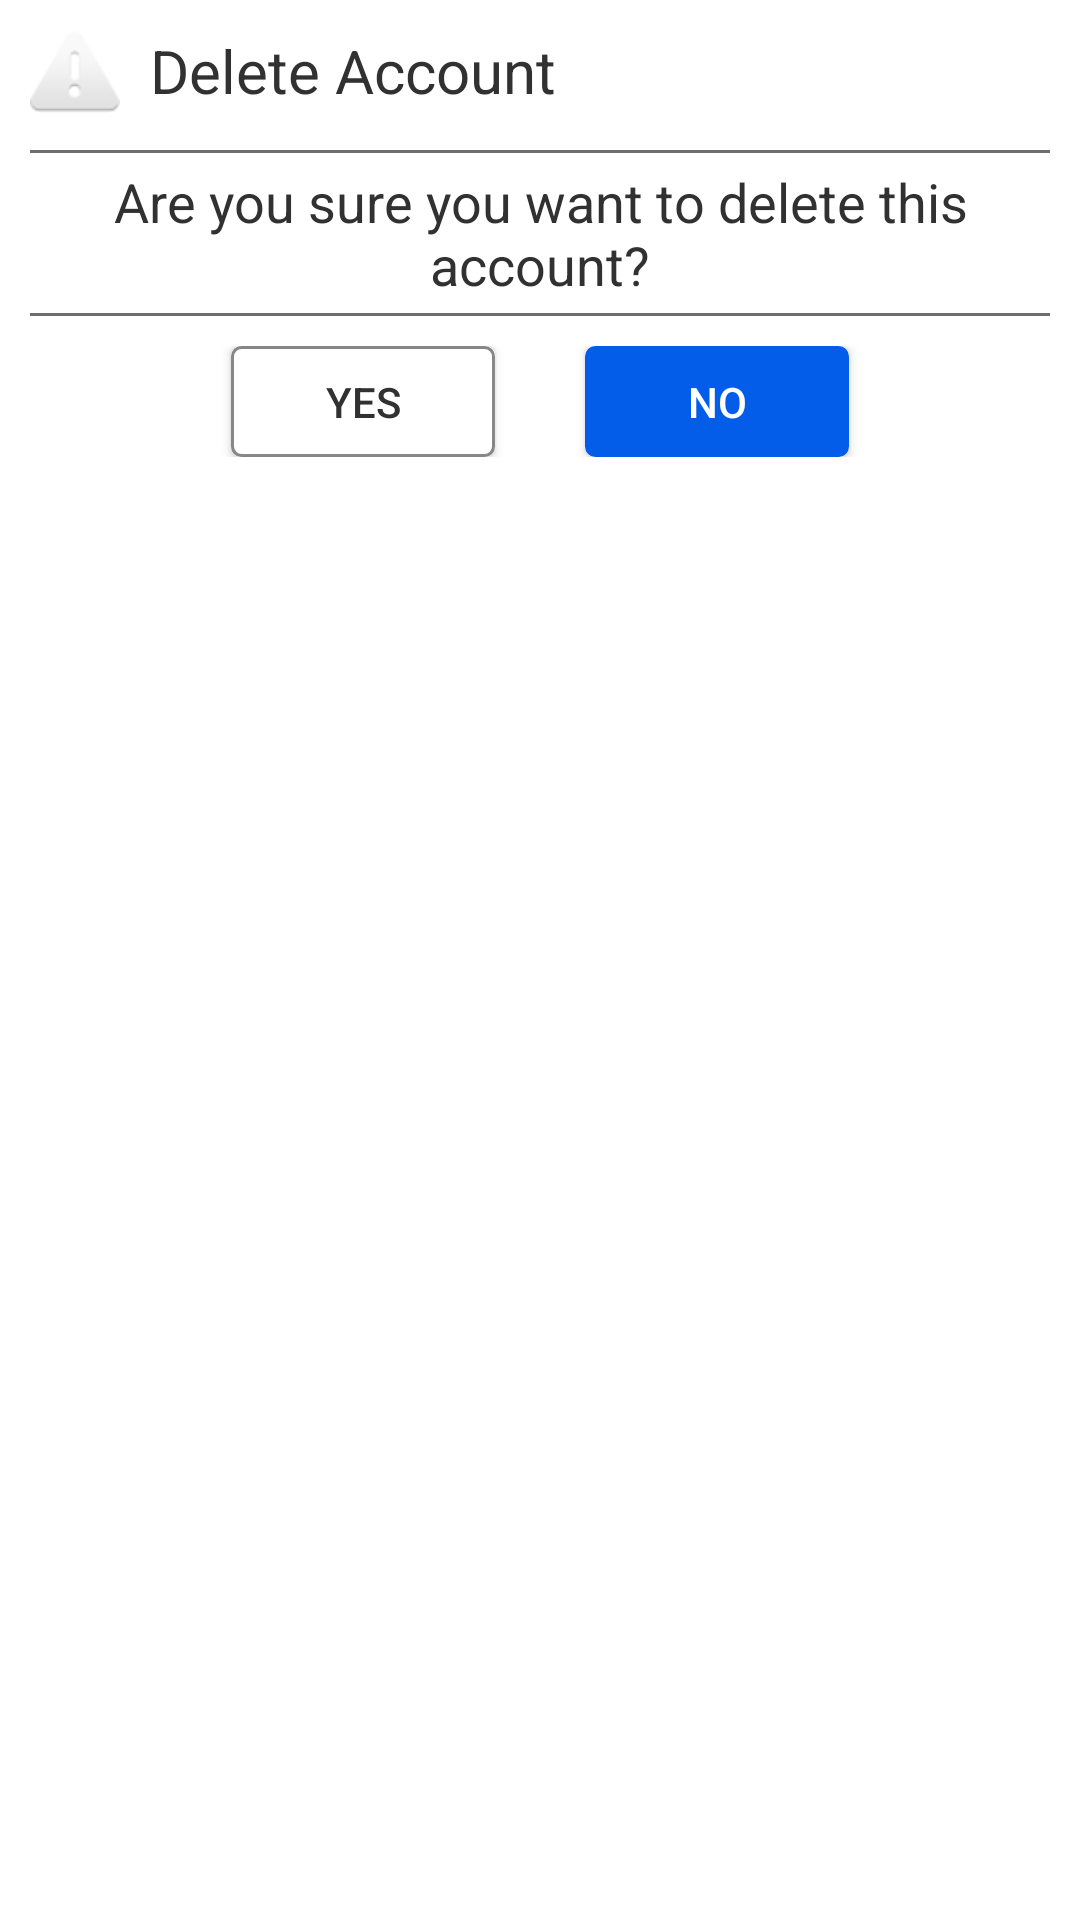

Where to tap for icons on this 1080 x 1920 app screen, as point (x, y):
Alert Icon: point (75, 81)
